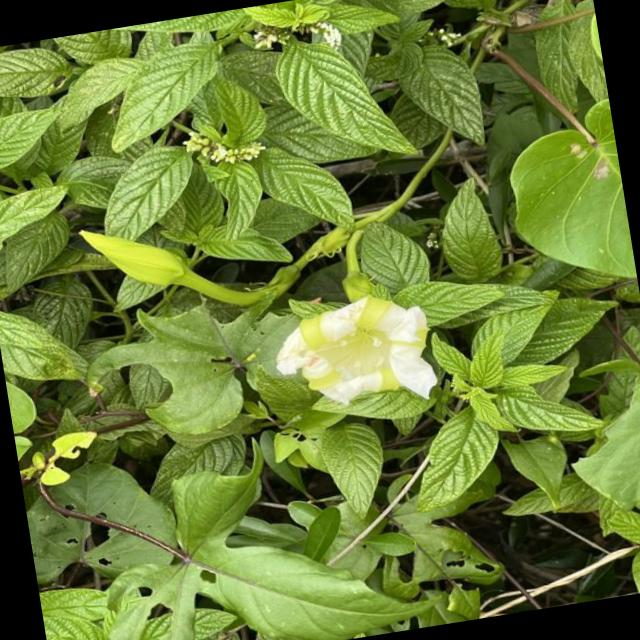ipomoea: (262, 284, 446, 425), (177, 114, 272, 178)
